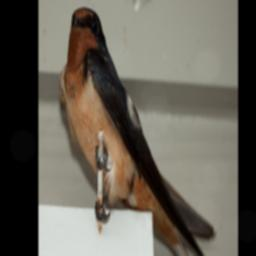Swallow: (64, 6, 234, 256)
